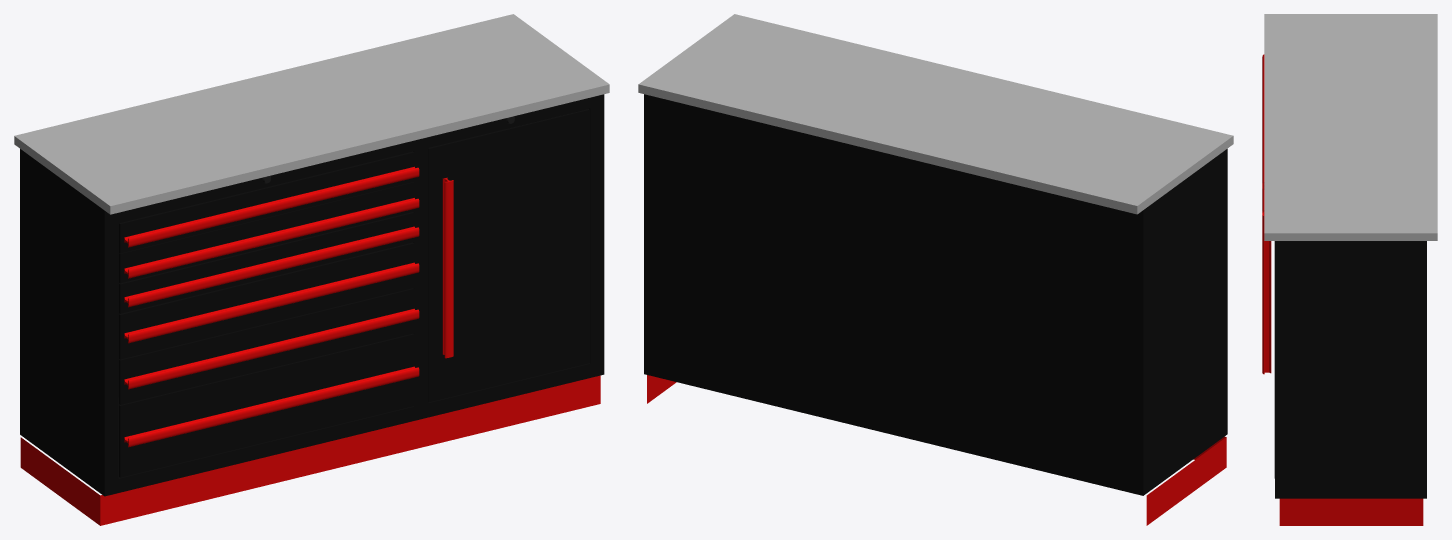
The model's file is Tool.fbx.
3 views of the same model, side by side, from view 1: azimuth 30°, elevation 25°; view 2: azimuth 150°, elevation 25°; view 3: azimuth 270°, elevation 25° (orthographic). The views are drawn at different scales.
Parts seen in each view (by area): view 1: FP_Tool_Top.001, FP_Tool_Shell, FP_Tool_Door.001, FP_Tool_Drawer_1, FP_Tool_Kick.001, FP_Tool_Drawer_3, FP_Tool_Drawer_2, FP_Tool_Drawer_6, FP_Tool_Drawer_4, FP_Tool_Drawer_5, FP_Tool_Handle_004, FP_Tool_Handle_003 (+5 smaller); view 2: FP_Tool_Shell, FP_Tool_Top.001, FP_Tool_Kick.001; view 3: FP_Tool_Top.001, FP_Tool_Shell, FP_Tool_Kick.001, FP_Tool_Handle_007, FP_Tool_Handle_006, FP_Tool_Door.001.
Part boxes in pixels (x1,y1,x2,y2): FP_Tool_Top.001: [14, 14, 609, 214]; FP_Tool_Shell: [20, 94, 604, 496]; FP_Tool_Door.001: [428, 109, 589, 402]; FP_Tool_Drawer_1: [119, 333, 414, 477]; FP_Tool_Kick.001: [20, 375, 600, 525]; FP_Tool_Drawer_3: [119, 242, 414, 359]; FP_Tool_Drawer_2: [119, 288, 414, 404]; FP_Tool_Drawer_6: [119, 151, 414, 253]; FP_Tool_Drawer_4: [119, 212, 414, 313]; FP_Tool_Drawer_5: [119, 182, 414, 283]; FP_Tool_Handle_004: [124, 226, 419, 307]; FP_Tool_Handle_003: [124, 262, 419, 343]; FP_Tool_Shell: [644, 94, 1227, 495]; FP_Tool_Top.001: [638, 14, 1233, 214]; FP_Tool_Kick.001: [647, 375, 1226, 525]; FP_Tool_Top.001: [1264, 14, 1437, 240]; FP_Tool_Shell: [1275, 241, 1426, 498]; FP_Tool_Kick.001: [1279, 498, 1423, 525]; FP_Tool_Handle_007: [1262, 212, 1271, 374]; FP_Tool_Handle_006: [1262, 54, 1264, 189]; FP_Tool_Door.001: [1274, 241, 1274, 478].
Size of the model in its own units: 158 by 97.97 by 53.1.
